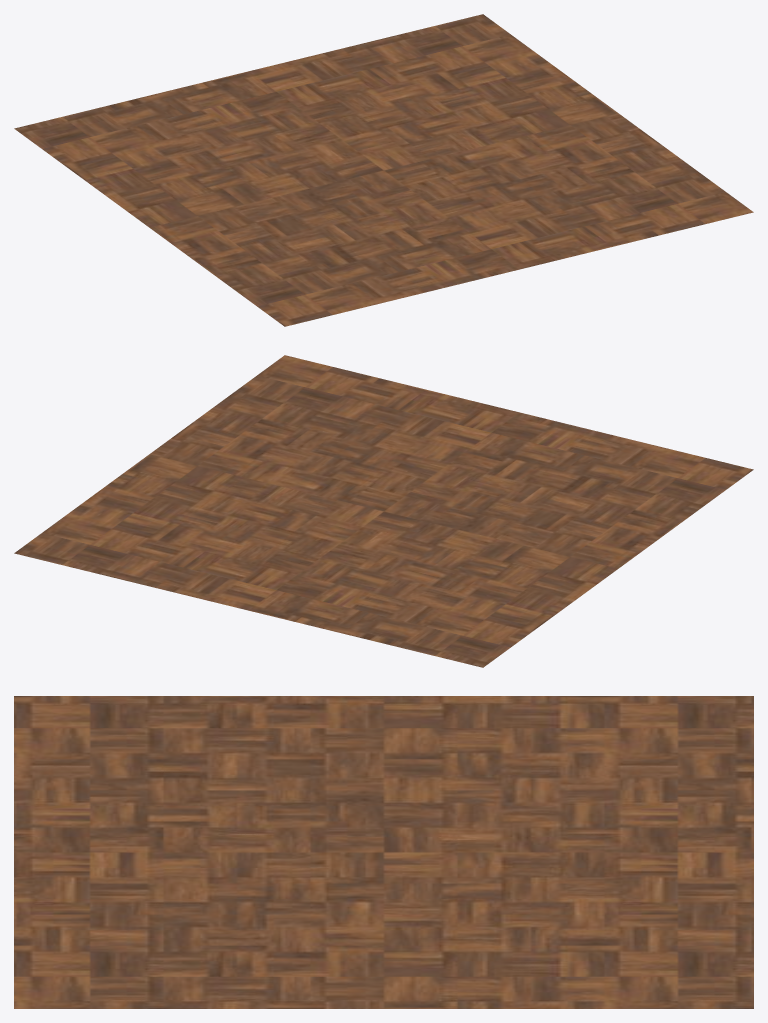
Rendered from floor.lod1.glb.
The picture shows the model from 3 angles, top to bottom: view 1: azimuth 30°, elevation 25°; view 2: azimuth 150°, elevation 25°; view 3: azimuth 270°, elevation 25°; orthographic projection. The views are drawn at different scales.
Visible parts, largest first — view 1: Floor; view 2: Floor; view 3: Floor.
Boxes of the visible parts, box(x1,y1,x2,y2) form: Floor: box(14, 14, 753, 326); Floor: box(14, 355, 753, 667); Floor: box(14, 696, 753, 1008).
Size of the model in its own units: 2 by 0 by 2.
1 material, 1 textured.
